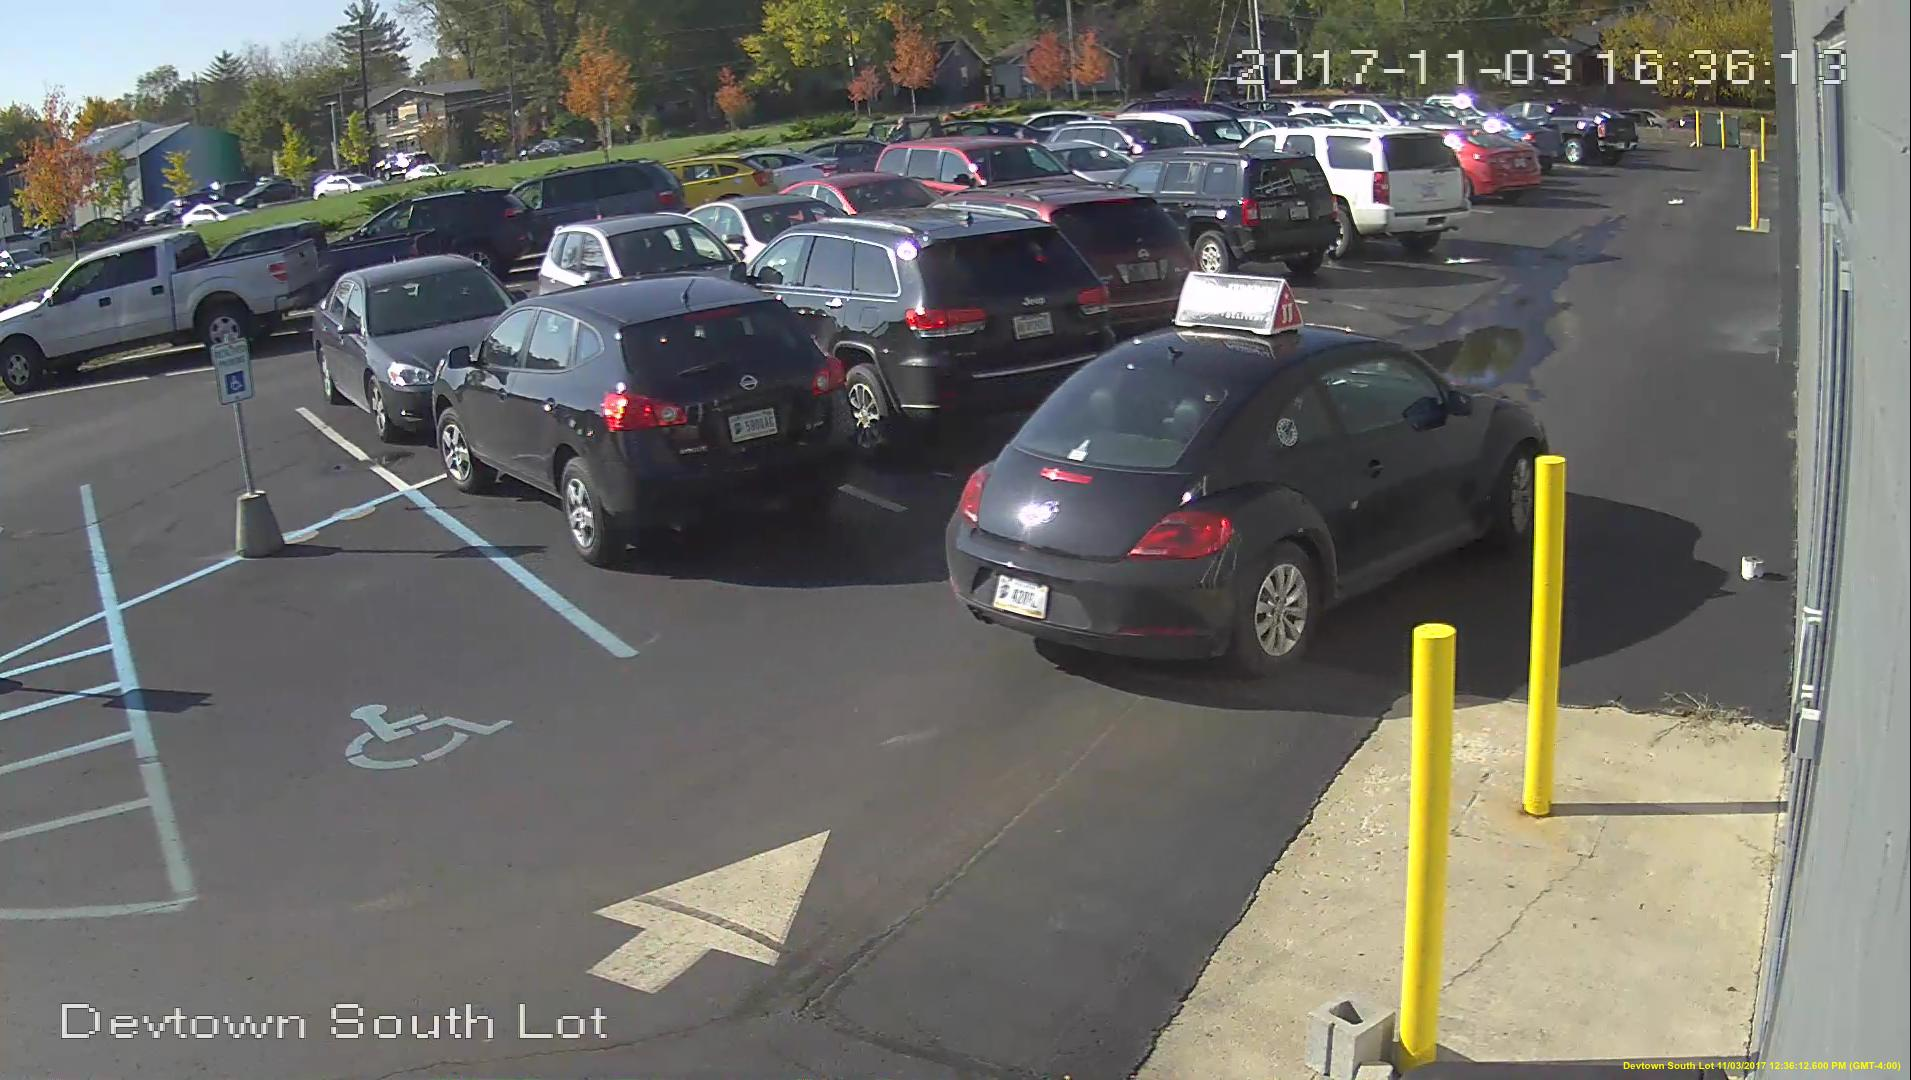jimmy_johns: (1168, 262, 1309, 339)
